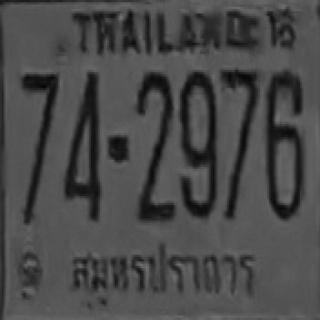N00: (178, 70, 216, 165)
N02: (135, 101, 174, 219), (136, 71, 172, 190)
N04: (62, 71, 100, 220)
N06: (263, 69, 303, 217)
N07: (20, 72, 58, 158), (221, 68, 257, 151)
N09: (178, 84, 216, 215)
P57: (63, 241, 260, 303)
